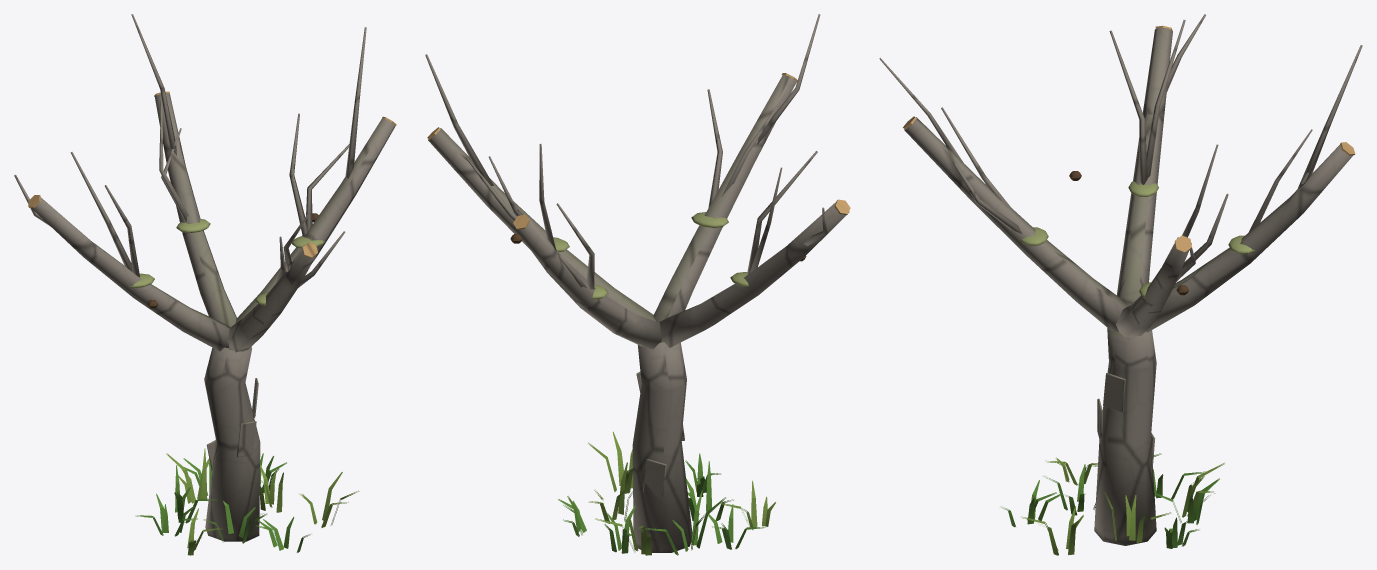
The model's file is orchard_tree_dead.glb.
3 views of the same model, side by side, from view 1: azimuth 30°, elevation 25°; view 2: azimuth 150°, elevation 25°; view 3: azimuth 270°, elevation 25° (orthographic). The views are drawn at different scales.
Parts seen in each view (by area): view 1: orchard_tree_dead; view 2: orchard_tree_dead; view 3: orchard_tree_dead.
Boxes of the visible parts, left/top/right/bottom form: orchard_tree_dead: left=14, top=14, right=396, bottom=555; orchard_tree_dead: left=425, top=14, right=850, bottom=555; orchard_tree_dead: left=879, top=14, right=1362, bottom=555.
Size of the model in its own units: 2.63 by 2.95 by 2.63.
Materials: 6 (6 with a texture image).
